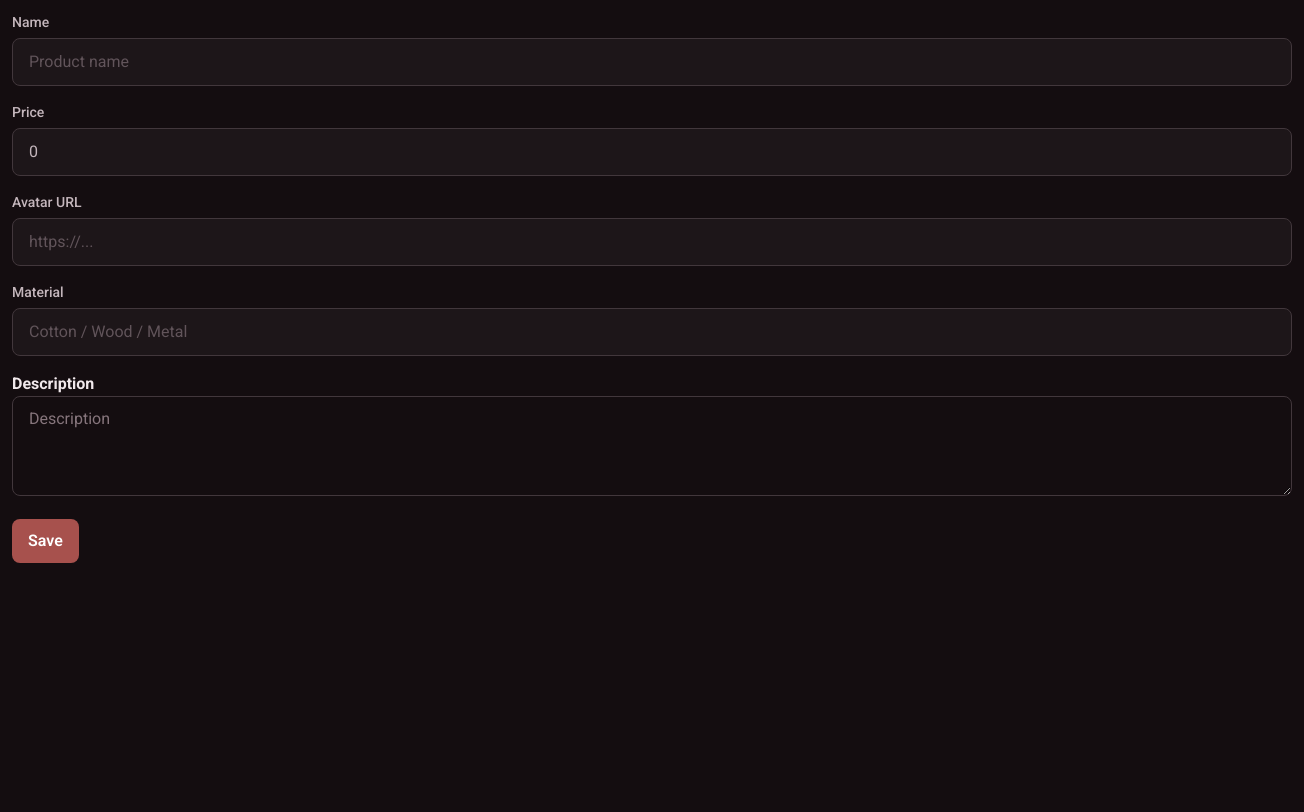
Test: ProductForm › shows validation error and blocks submit when name is empty
What coordinates should you click on to do the following:
click the button "Save"
I would click on:
 (45, 541)
Its box is [12,519,79,563].
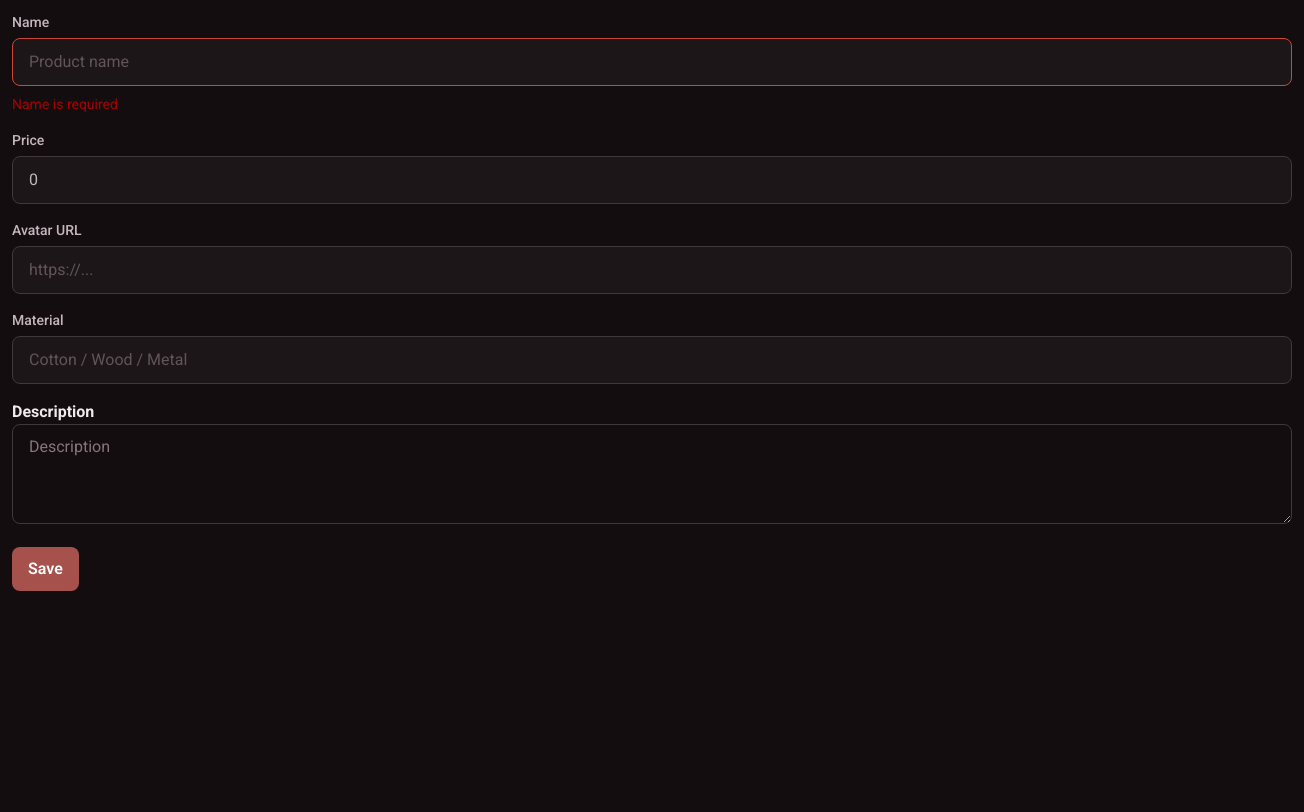
Expected: the text "Name is required" is shown, [12,96,118,112]
